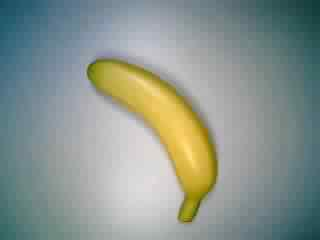banana: (83, 56, 220, 224)
